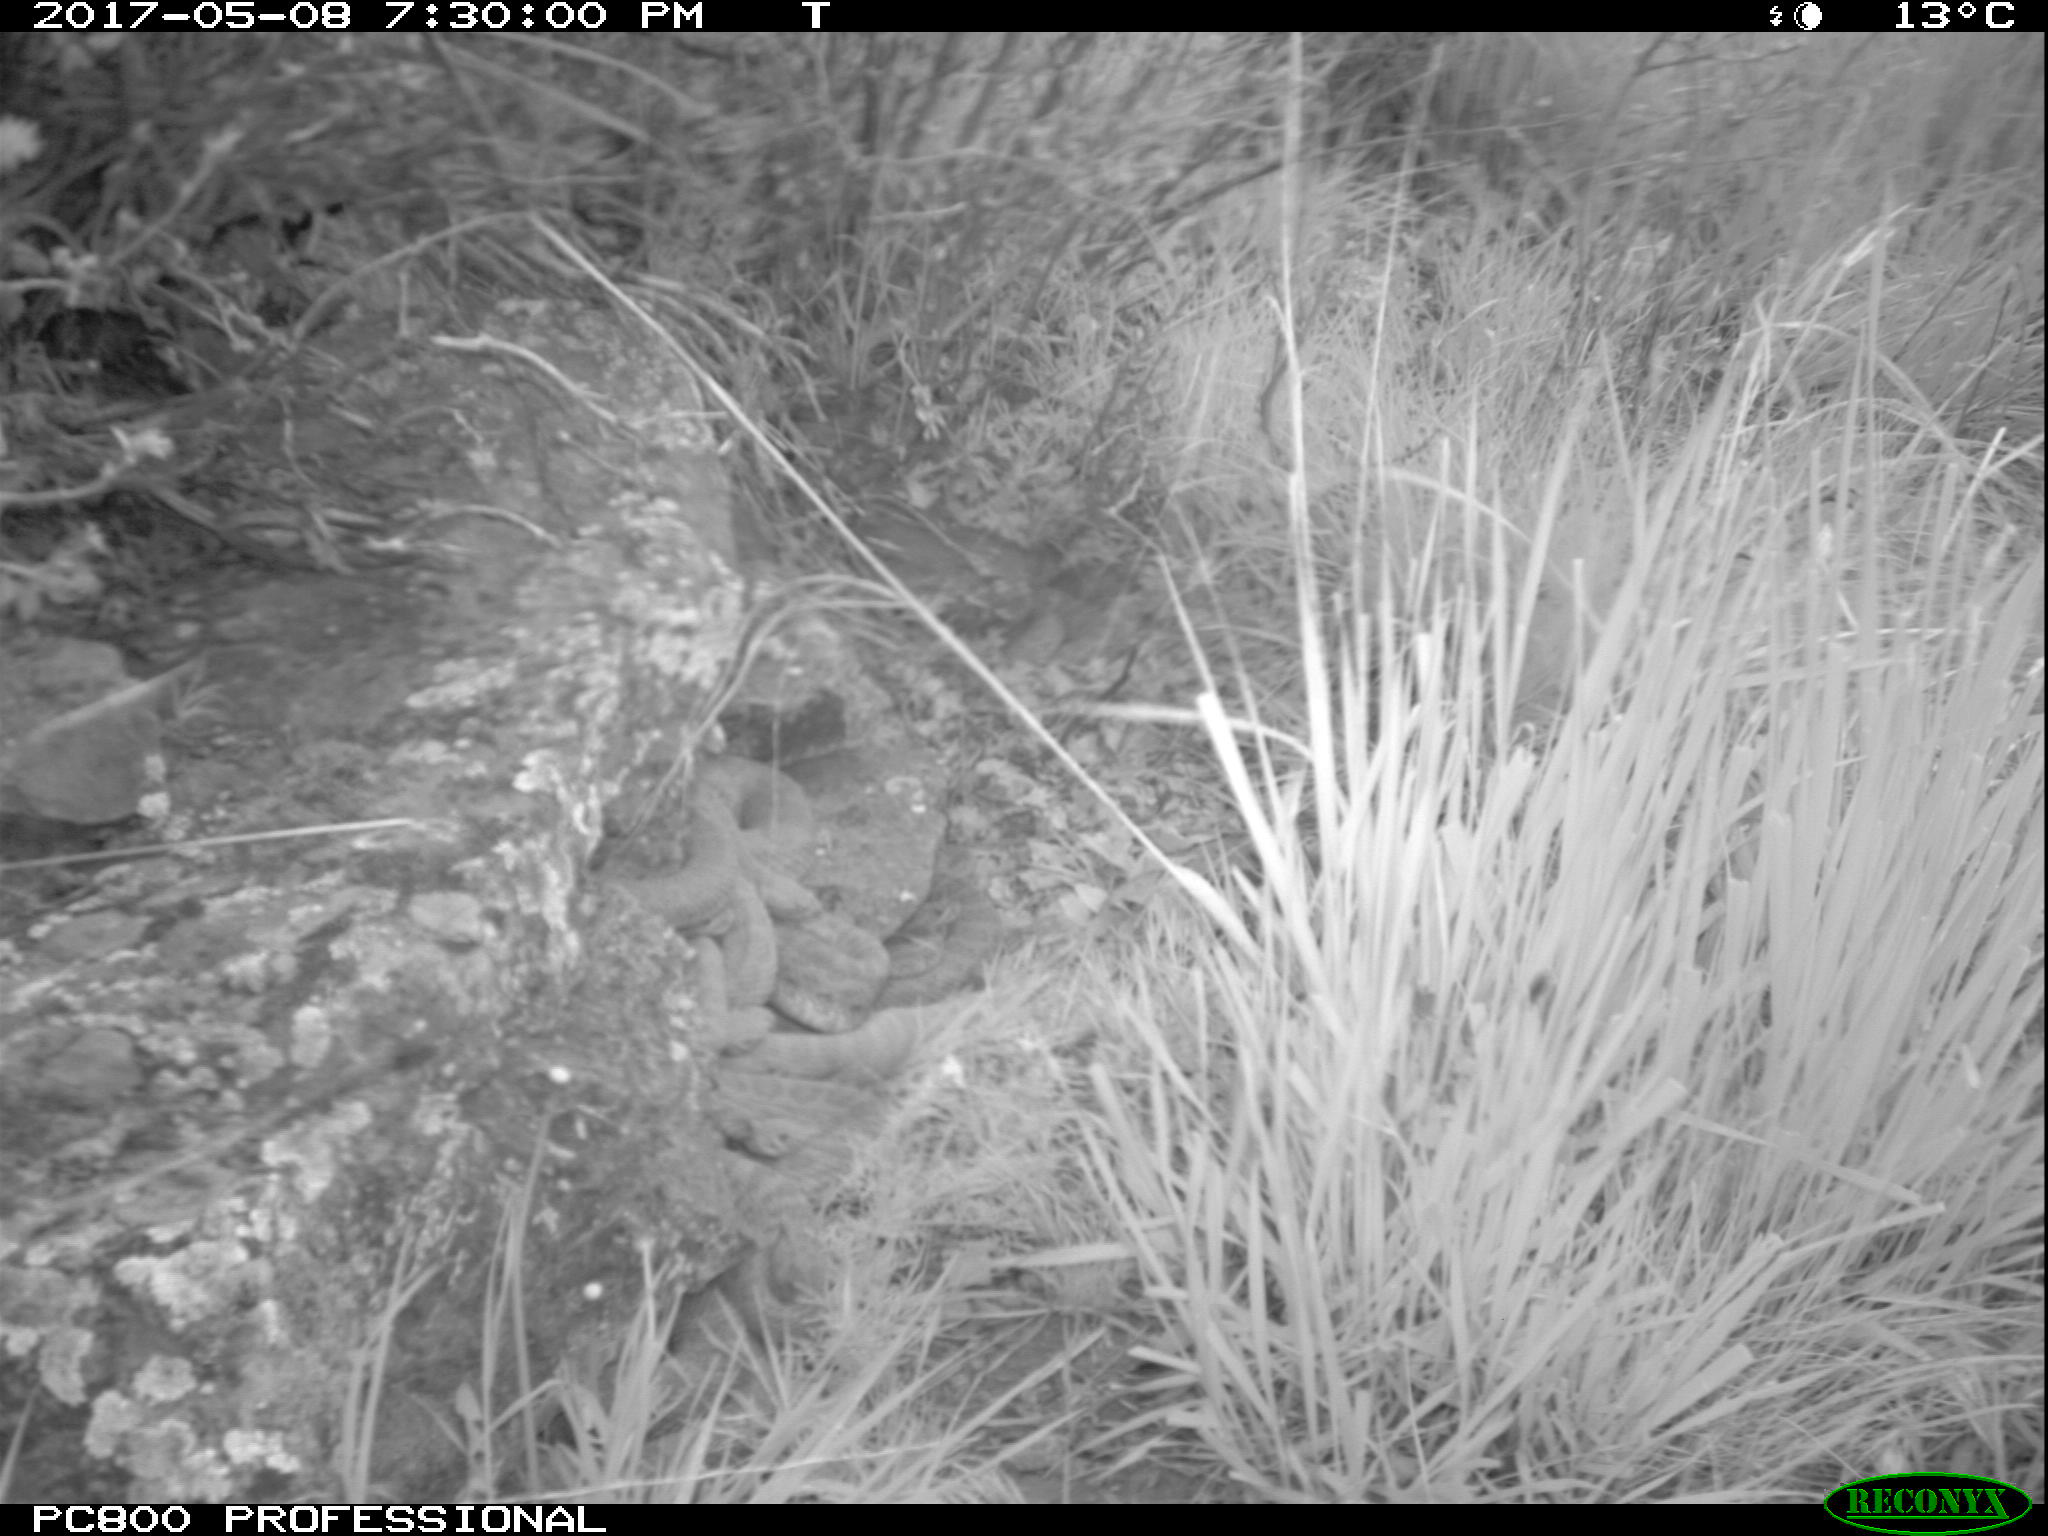snake: (697, 958, 919, 1175), (645, 757, 837, 937)
